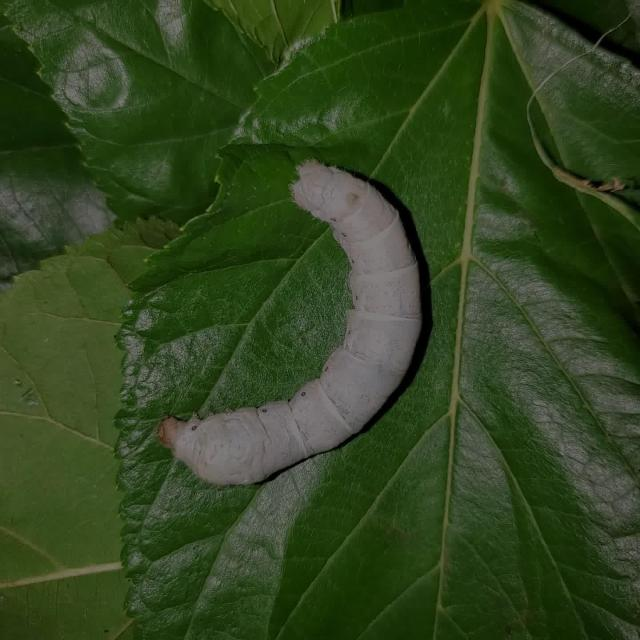Healthy: (128, 97, 462, 515)
